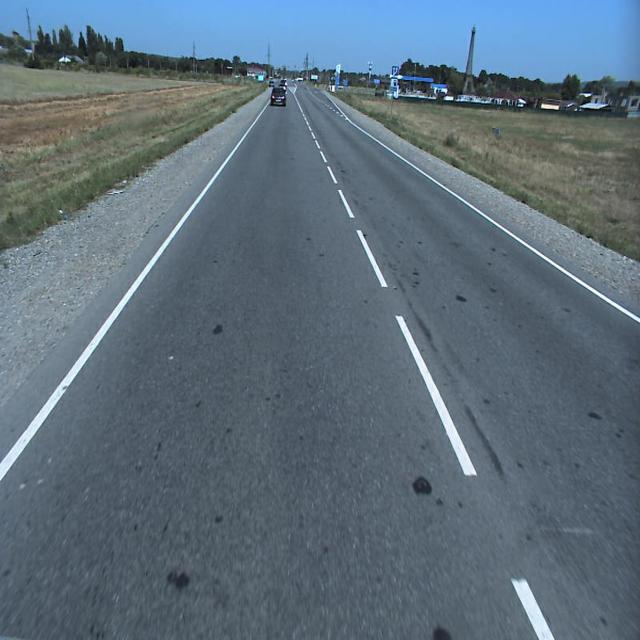road: (0, 81, 640, 639)
